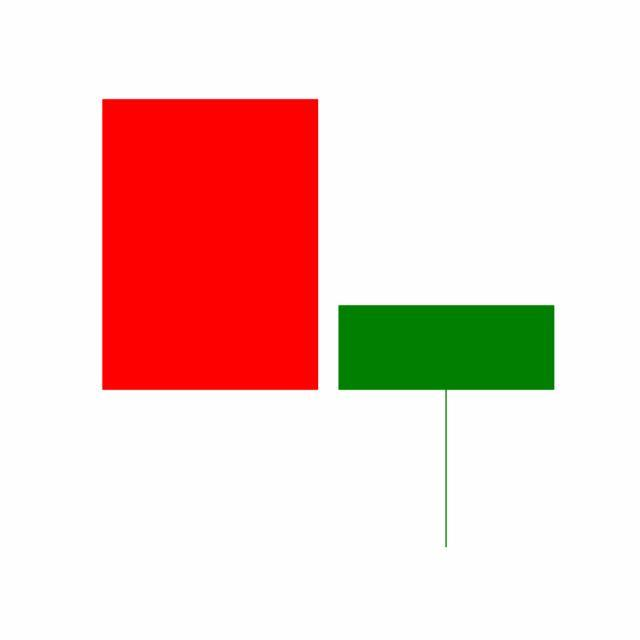Dragonfly Doji: (328, 303, 566, 551)
